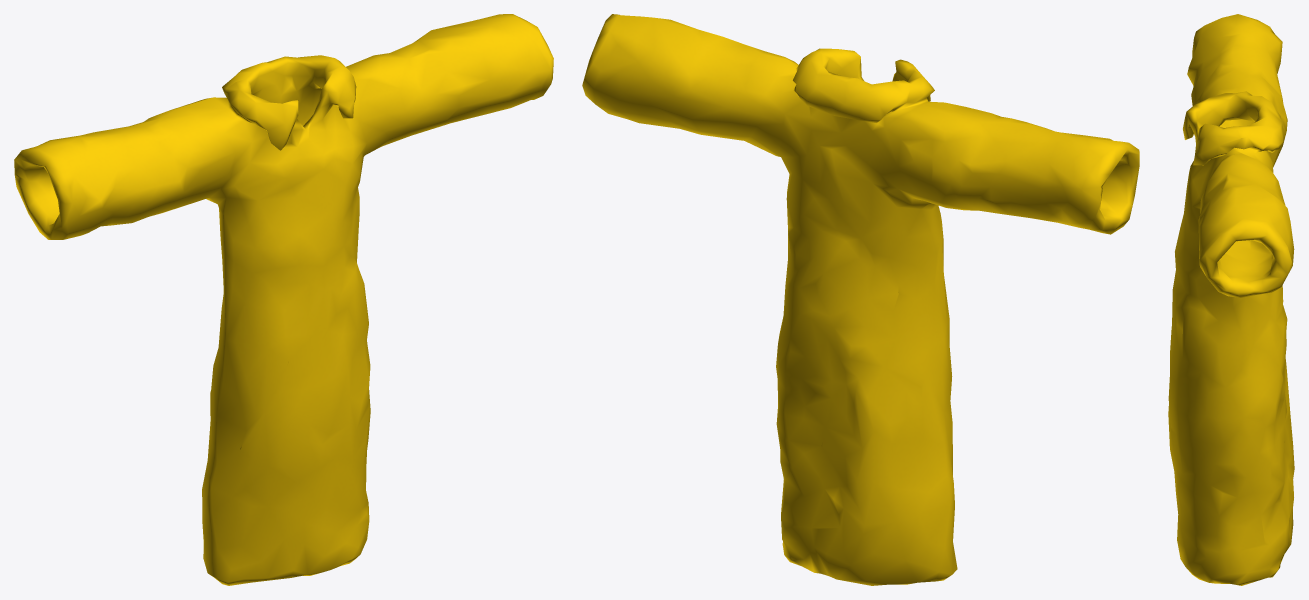
Rendered from collared shirt yellow.glb.
3 renders of one model, left to right at view 1: azimuth 30°, elevation 25°; view 2: azimuth 150°, elevation 25°; view 3: azimuth 270°, elevation 25°, orthographic. The views are drawn at different scales.
Visible parts, largest first — view 1: shirt_collared_yellow.001; view 2: shirt_collared_yellow.001; view 3: shirt_collared_yellow.001.
Part boxes in pixels (left/top/right/bottom): shirt_collared_yellow.001: left=14, top=14, right=553, bottom=585; shirt_collared_yellow.001: left=582, top=14, right=1139, bottom=585; shirt_collared_yellow.001: left=1168, top=14, right=1294, bottom=585.
Bounding box in the file's own units: 0.371 × 0.3409 × 0.0863.
1 material, 1 textured.
